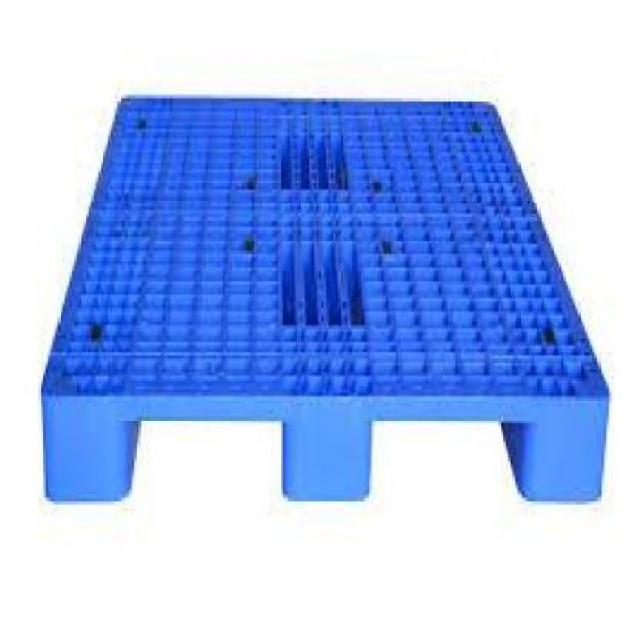pallet: (34, 51, 612, 552)
